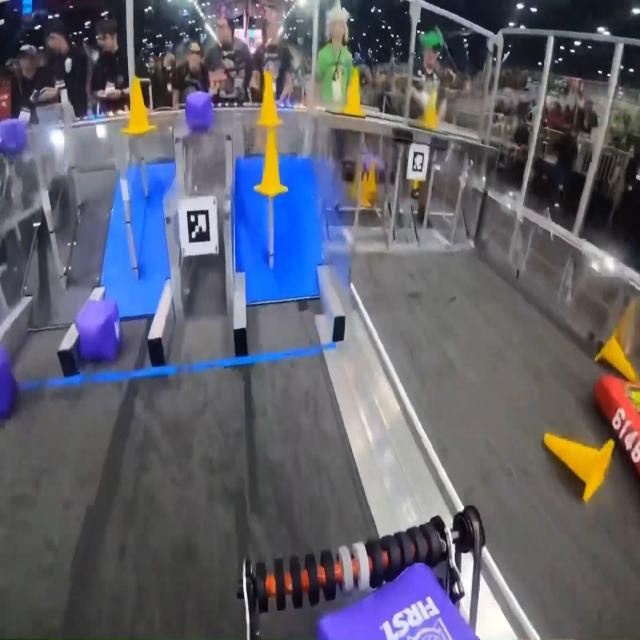robot: (592, 369, 640, 477)
